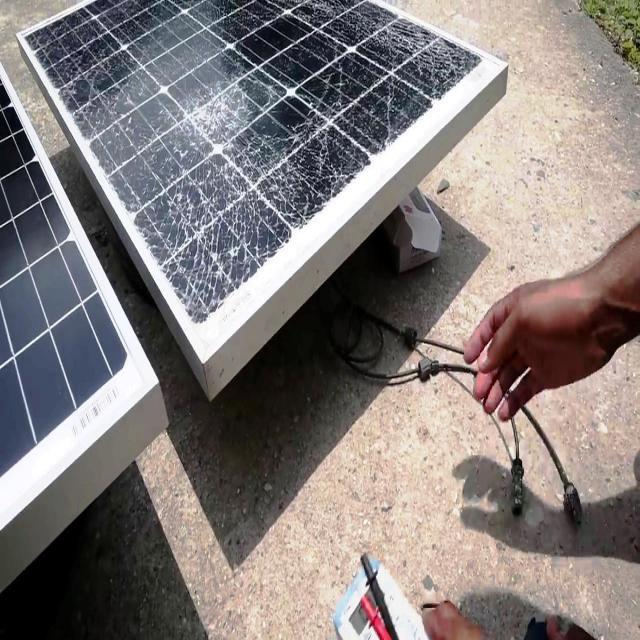faulty: (20, 4, 490, 327), (0, 47, 130, 530)
